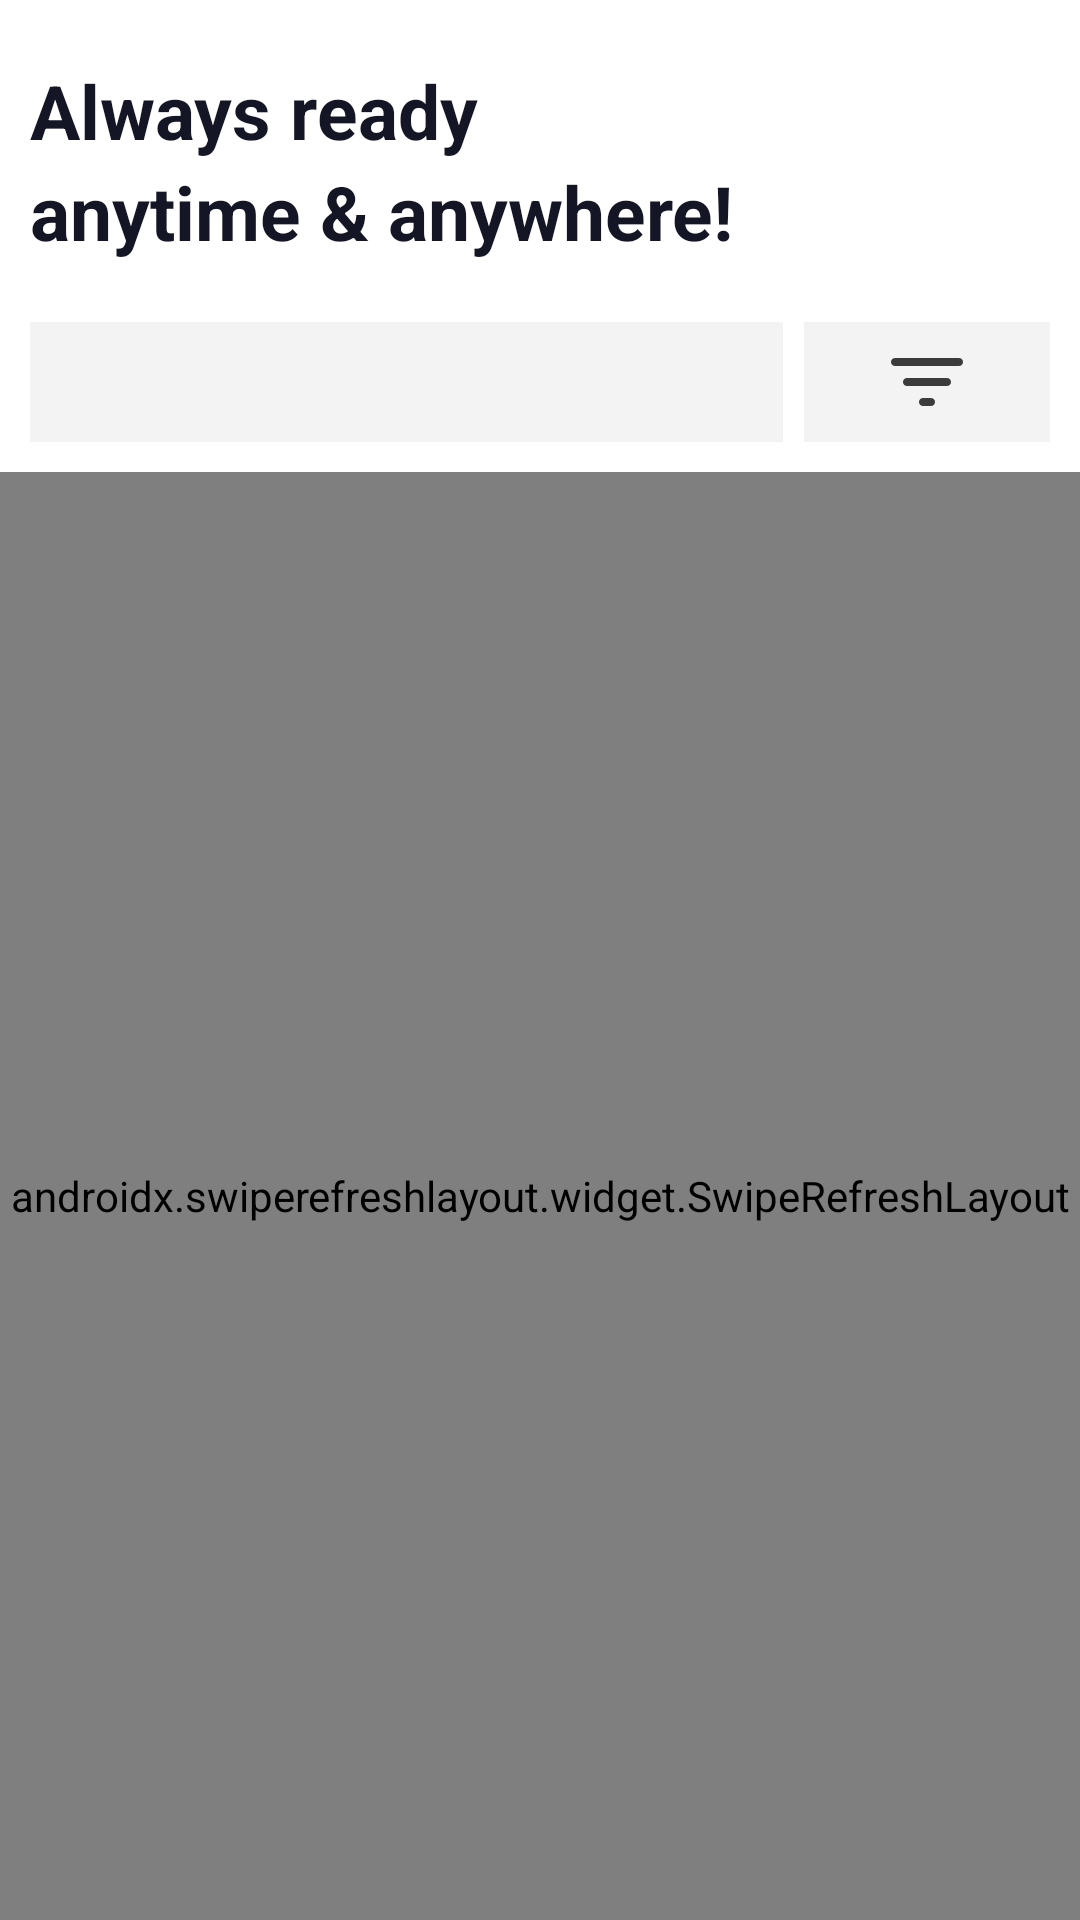

Icon click points for this 1080 x 1920 phone screenshot, format point (x, y):
filter list: point (927, 382)
